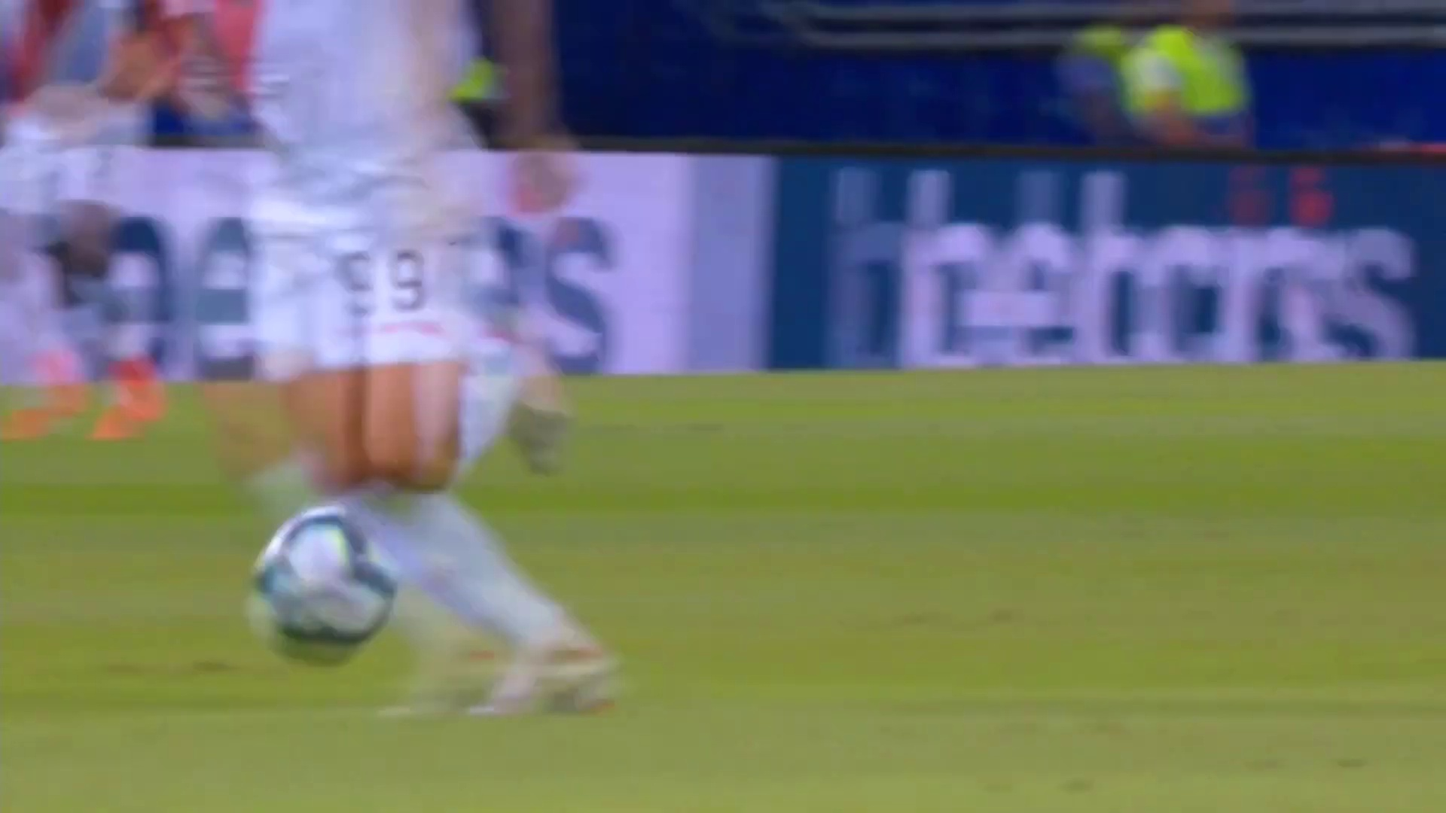ball: (232, 473, 412, 685)
